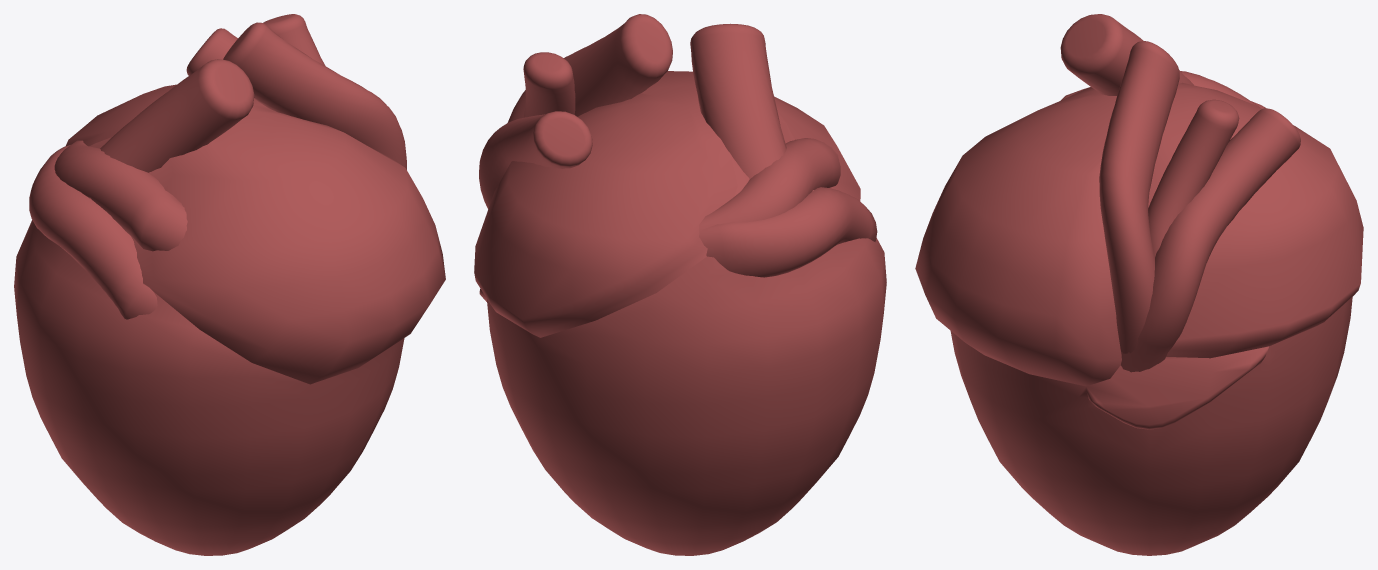
File: Corazon.fbx
The picture shows the model from 3 angles, left to right: view 1: azimuth 30°, elevation 25°; view 2: azimuth 150°, elevation 25°; view 3: azimuth 270°, elevation 25°; orthographic projection. The views are drawn at different scales.
Visible parts, largest first — view 1: pCylinder13; view 2: pCylinder13; view 3: pCylinder13.
Part boxes in pixels (x1,y1,x2,y2): pCylinder13: (14, 14, 445, 555); pCylinder13: (474, 14, 886, 555); pCylinder13: (915, 14, 1363, 555).
Size of the model in its own units: 2.83 by 3.82 by 2.94.
